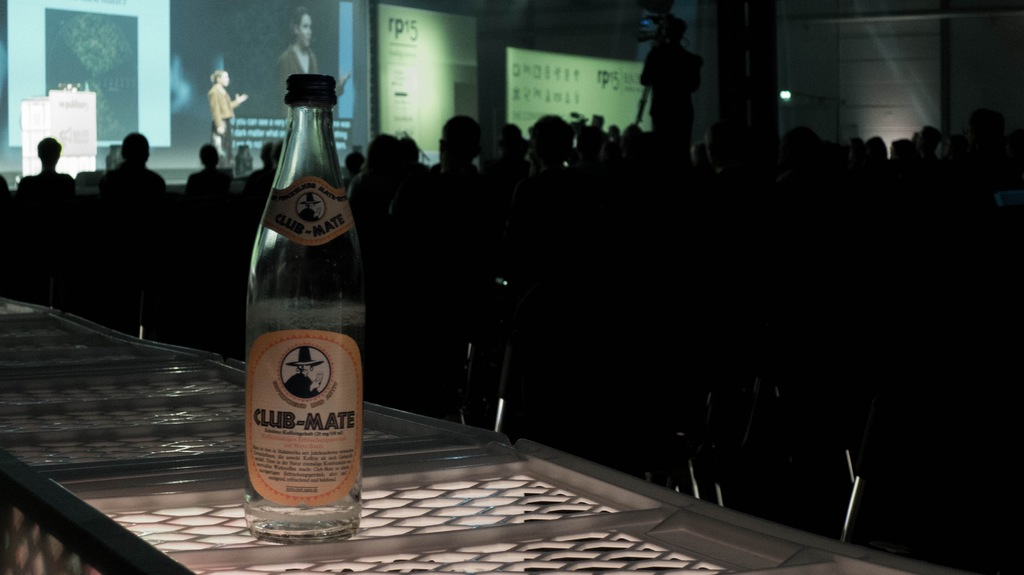face: (292, 13, 314, 46), (215, 71, 229, 91)
person: (97, 130, 174, 209), (428, 112, 490, 201), (356, 125, 421, 209), (17, 130, 82, 213), (204, 64, 239, 169), (182, 140, 236, 207), (277, 8, 322, 78), (535, 119, 573, 186), (495, 121, 528, 185)
